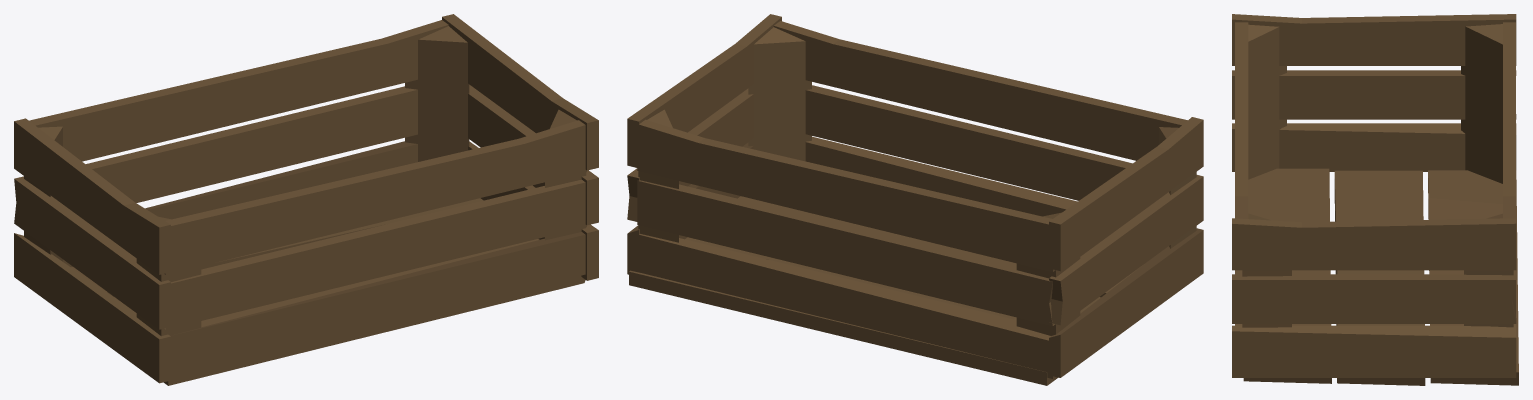
File: Wooden Crate_3.fbx
The picture shows the model from 3 angles, left to right: view 1: azimuth 30°, elevation 25°; view 2: azimuth 150°, elevation 25°; view 3: azimuth 270°, elevation 25°; orthographic projection. The views are drawn at different scales.
Visible parts, largest first — view 1: Wooden Crate_3; view 2: Wooden Crate_3; view 3: Wooden Crate_3.
Boxes of the visible parts, box(x1,y1,x2,y2) form: Wooden Crate_3: box(14, 14, 598, 385); Wooden Crate_3: box(627, 14, 1203, 385); Wooden Crate_3: box(1232, 14, 1518, 385).
Bounding box in the file's own units: 115 × 41.73 × 66.29.
